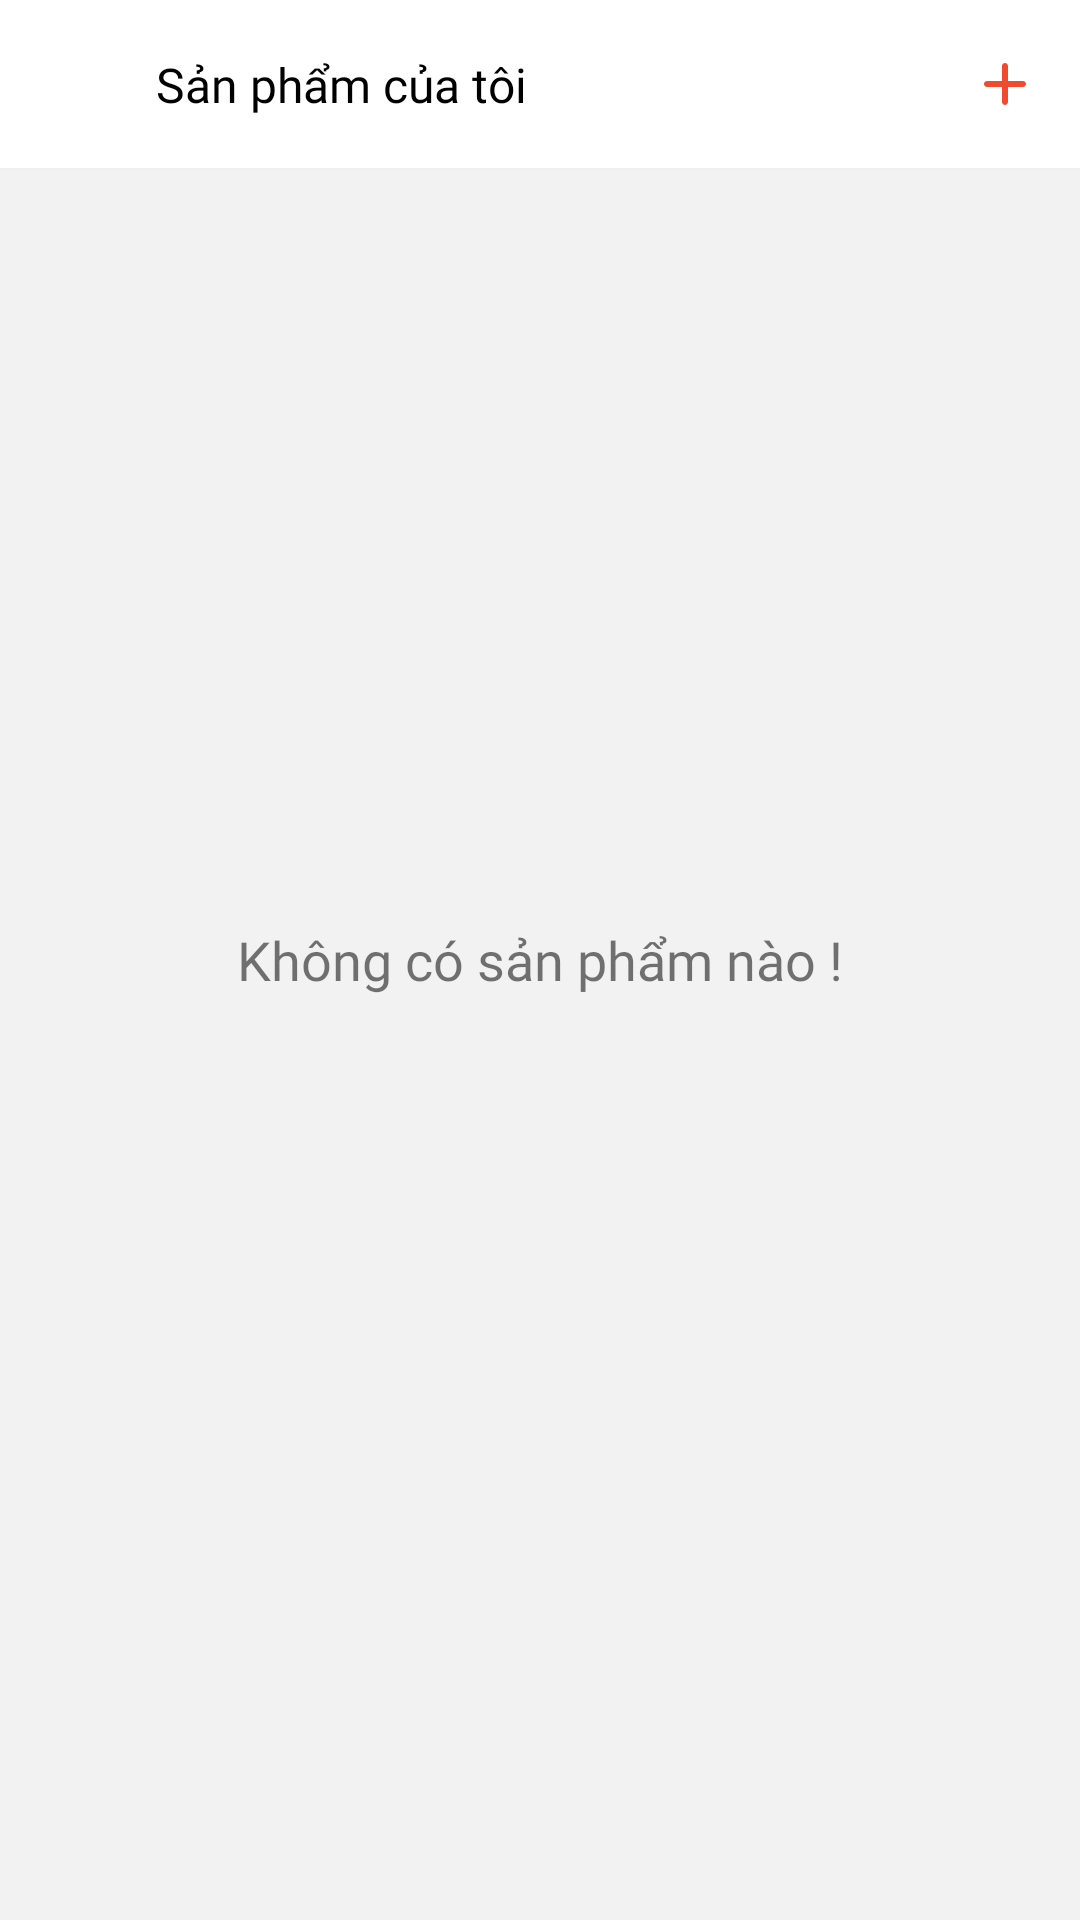

Screen size 1080px×1920px. Icon name, then its box in pixels as [x1, y1, x2, y2]:
add: [984, 63, 1026, 105]
